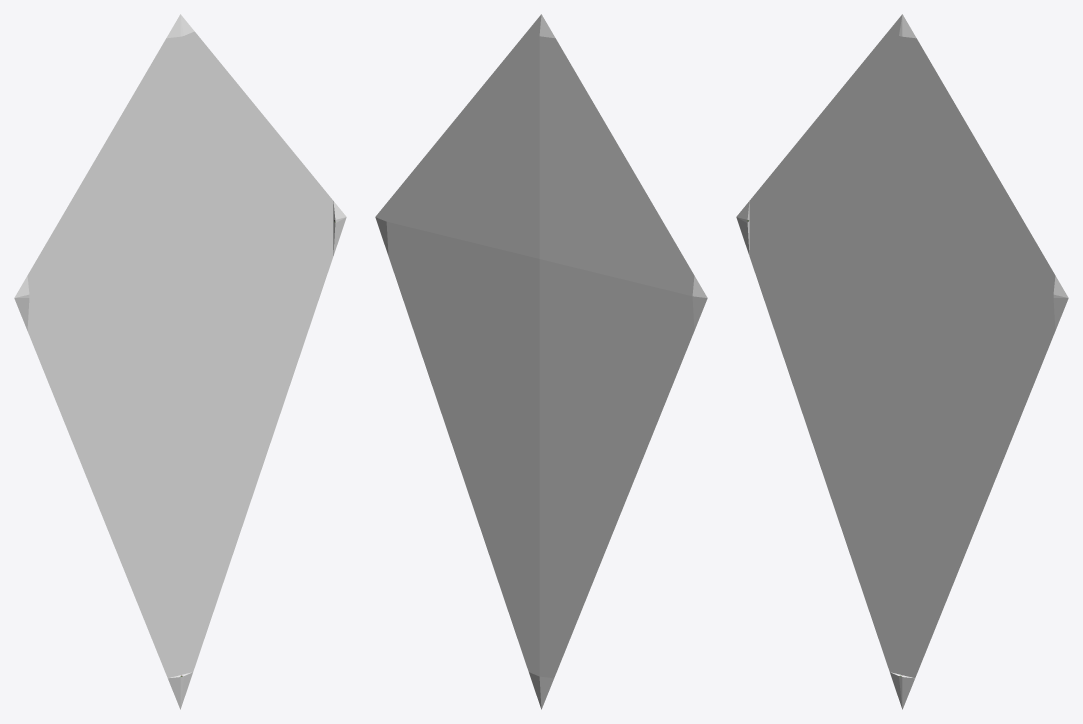
Rendered from Beeyond_Kite_Cloth.fbx.
The picture shows the model from 3 angles, left to right: view 1: azimuth 30°, elevation 25°; view 2: azimuth 150°, elevation 25°; view 3: azimuth 330°, elevation 25°; orthographic projection.
Parts seen in each view (by area): view 1: Kite_NOframe; view 2: Kite_NOframe; view 3: Kite_NOframe.
Part boxes in pixels (x1,y1,x2,y2): Kite_NOframe: (14, 14, 346, 709); Kite_NOframe: (375, 14, 707, 709); Kite_NOframe: (736, 14, 1068, 709).
Bounding box in the file's own units: 50 × 100 × 1.
